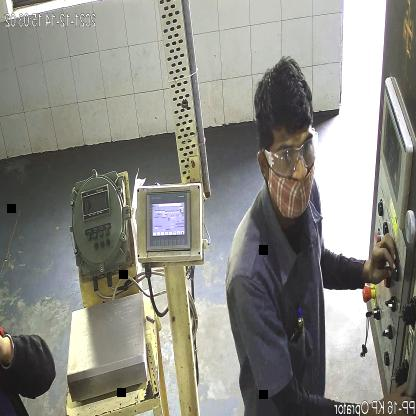goggles: (265, 135, 320, 178)
